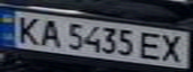3: (100, 25, 121, 56)
4: (81, 24, 103, 54)
5: (115, 26, 139, 59), (63, 20, 84, 52)
A: (36, 17, 63, 48)
E: (136, 29, 166, 62)
K: (9, 14, 45, 45)
X: (157, 31, 190, 64)
